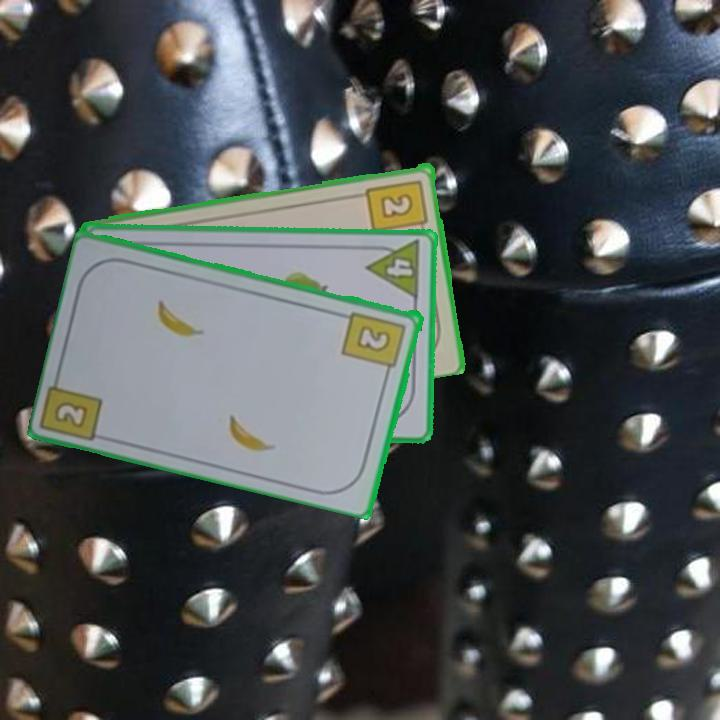2b: (339, 307, 409, 379), (363, 175, 431, 237), (50, 397, 92, 431)
4p: (364, 237, 424, 302)
